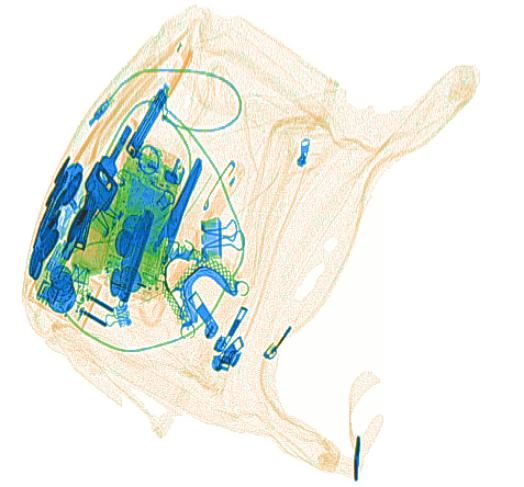knife: (116, 208, 154, 302)
scissors: (121, 155, 203, 327)
